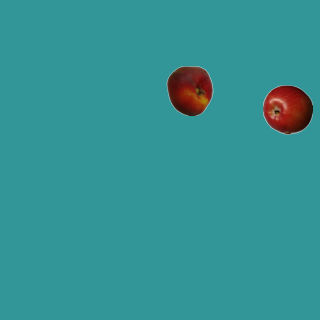Apple Braeburn: (262, 84, 312, 134)
Nectarine Flat: (164, 65, 214, 115)
